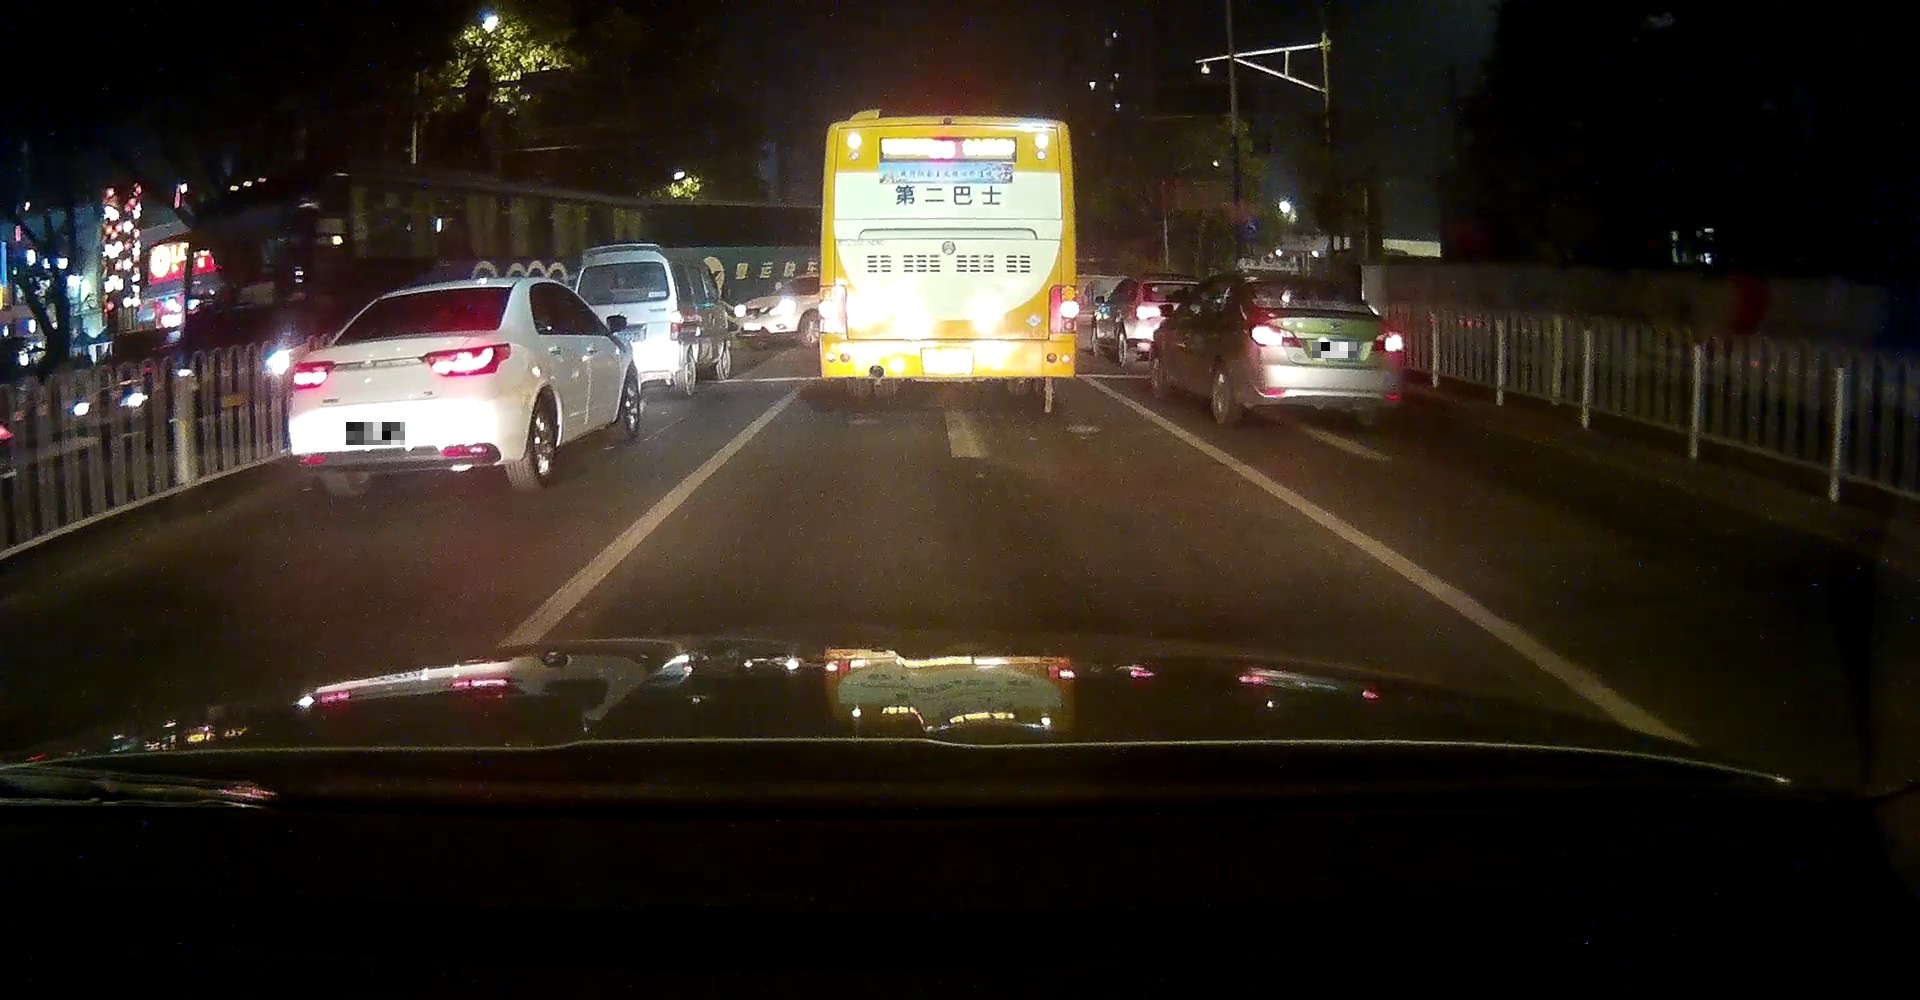L_light: (1248, 321, 1303, 346), (820, 286, 848, 334), (292, 360, 335, 391)
R_light: (417, 341, 512, 378), (1048, 284, 1078, 332), (1370, 329, 1404, 354)
T_light: (423, 286, 452, 294), (937, 115, 959, 126), (1294, 277, 1316, 283)
night-no: (819, 108, 1079, 397), (291, 279, 524, 503), (1239, 270, 1404, 431)
plate_1: (345, 423, 405, 445)
plate_2: (1312, 341, 1359, 358)
